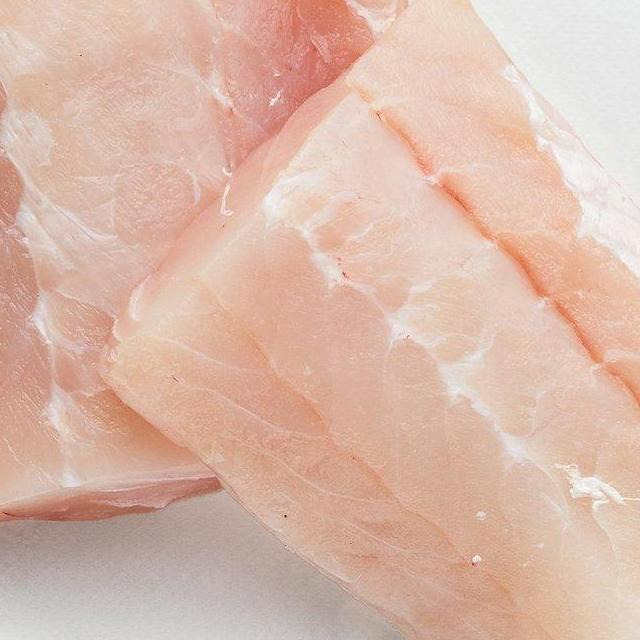fish: (87, 0, 640, 640)
